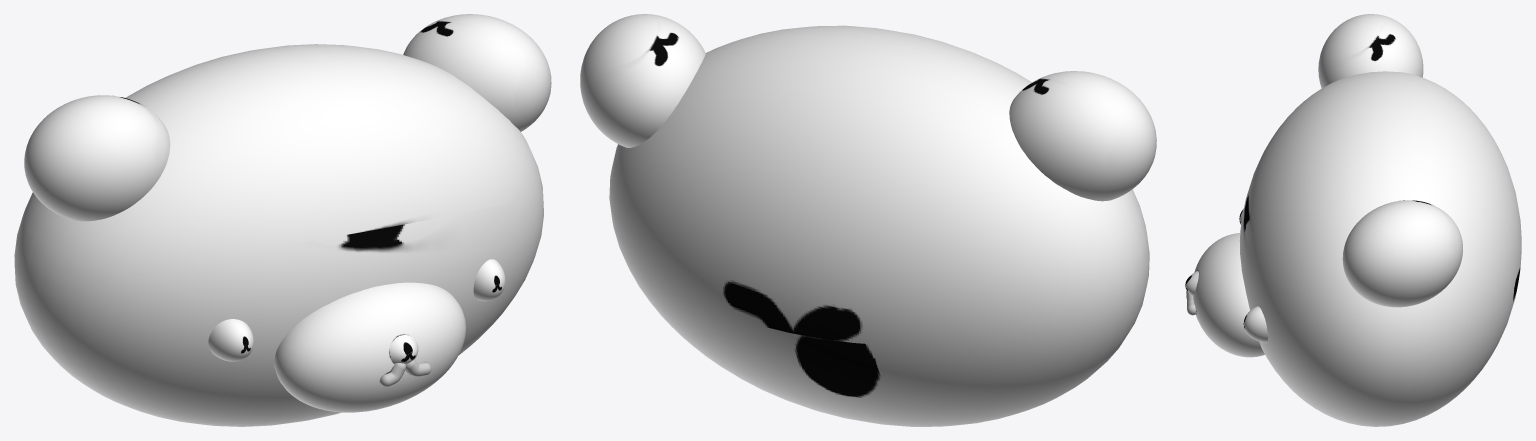
File: kuma.fbx
The picture shows the model from 3 angles, left to right: view 1: azimuth 30°, elevation 25°; view 2: azimuth 150°, elevation 25°; view 3: azimuth 270°, elevation 25°; orthographic projection. The views are drawn at different scales.
Parts seen in each view (by area): view 1: node_id48, object 1, node_id49, node_id56, object 3, object 2, object 4, node_id142, object 5; view 2: node_id48, node_id49, node_id56; view 3: node_id48, node_id56, node_id49, object 1, object 2, object 4.
Part boxes in pixels (<box>): node_id48: <box>14,44,543,426</box>; object 1: <box>274,282,465,412</box>; node_id49: <box>24,95,170,221</box>; node_id56: <box>403,14,551,131</box>; object 3: <box>208,319,253,361</box>; object 2: <box>275,284,453,407</box>; object 4: <box>473,259,505,301</box>; node_id142: <box>380,359,431,386</box>; object 5: <box>389,335,418,364</box>; node_id48: <box>609,25,1149,426</box>; node_id49: <box>1009,71,1156,201</box>; node_id56: <box>580,14,705,147</box>; node_id48: <box>1239,71,1521,426</box>; node_id56: <box>1342,200,1462,307</box>; node_id49: <box>1318,14,1423,88</box>; object 1: <box>1193,233,1264,357</box>; object 2: <box>1193,234,1264,355</box>; object 4: <box>1243,306,1268,342</box>.
Size of the model in its own units: 0.6233 by 0.4064 by 0.4194.
1 material, 1 textured.
